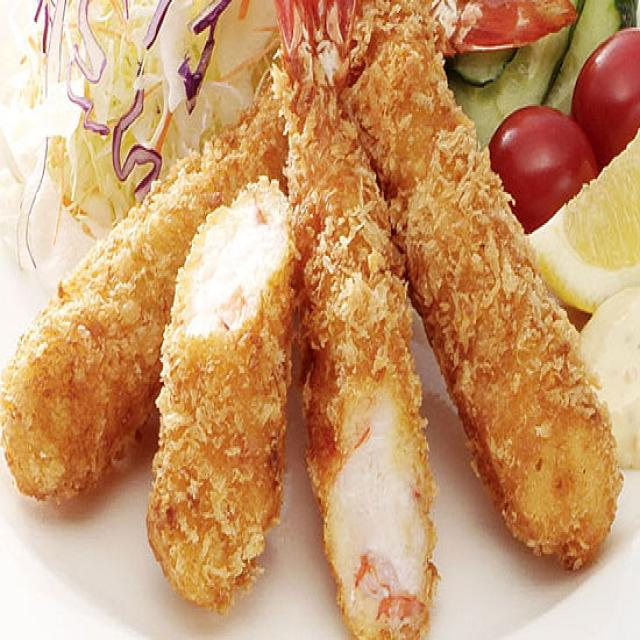炸货点心: (0, 0, 627, 638)
熟制海鲜: (0, 0, 627, 638)
